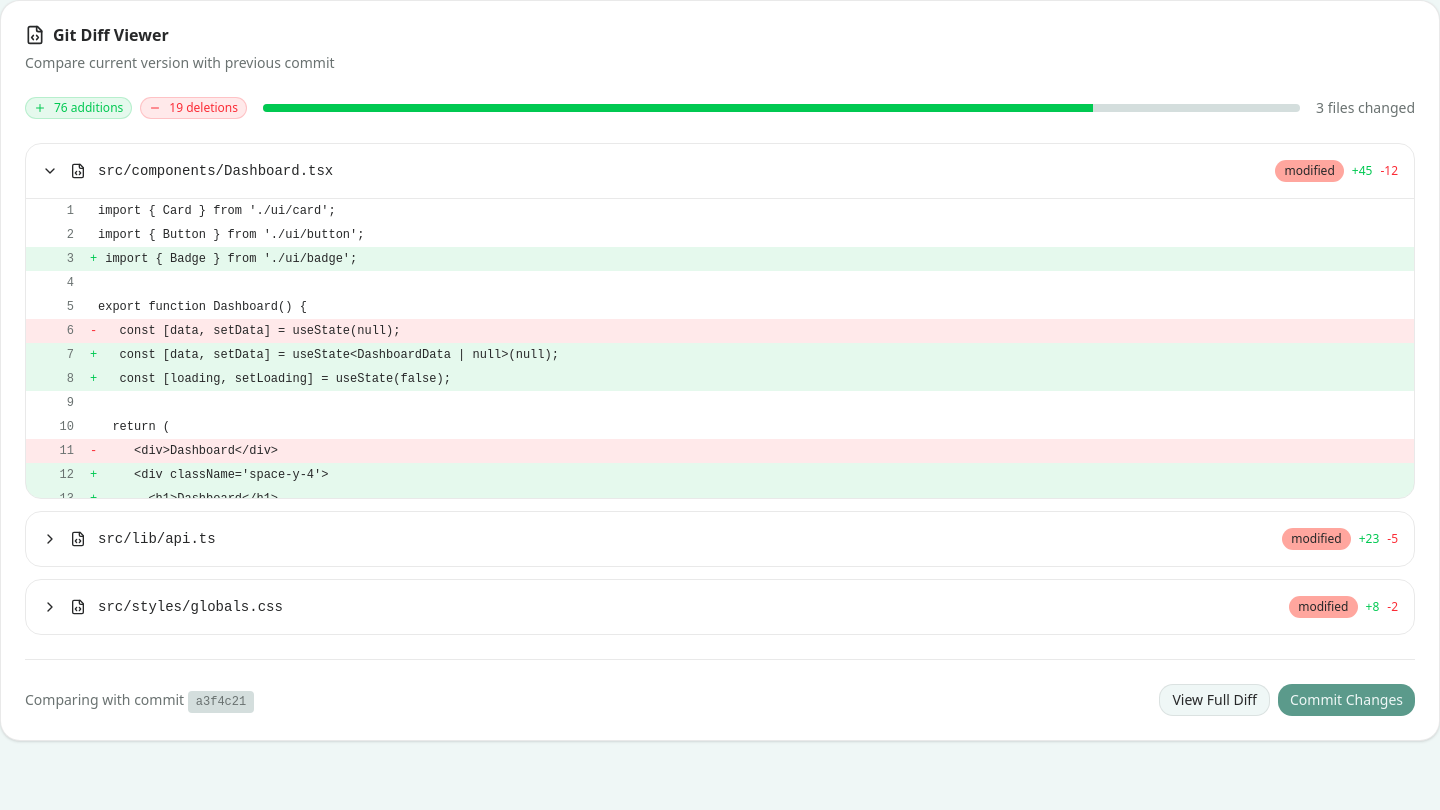
Test: GitDiffViewer Component › should toggle file diff visibility when clicked
Expected: the text "import { Card } from './ui/card';" is shown, [98,204,336,218]
Expected: the text "async function fetchData() {" is not shown
// close Dashboard
What coordinates should you click on to do the following:
click the button "src/components/Dashboard.tsx modified +45 -12"
I would click on:
 (216, 171)
Its box is [26,144,1414,198].
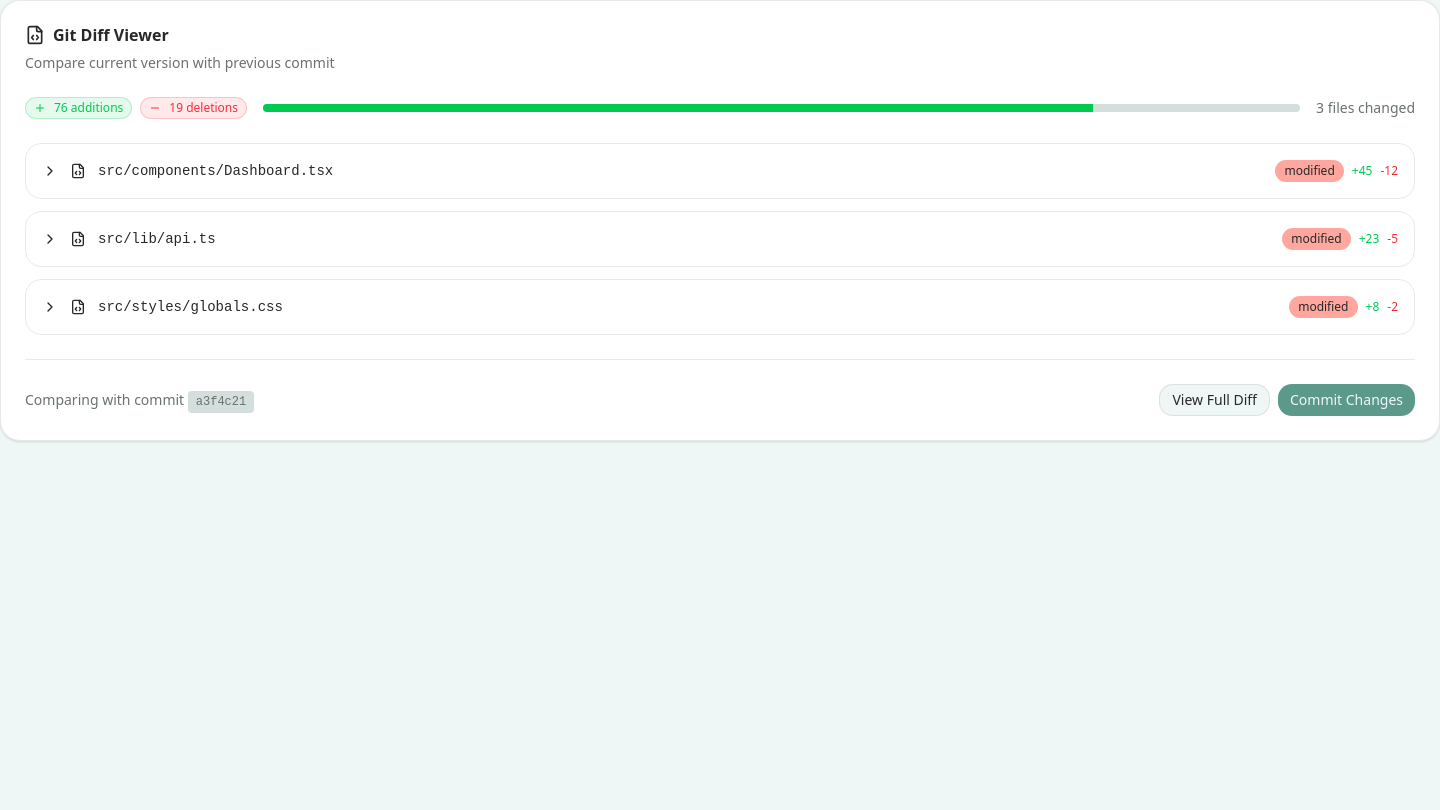
Now the text "import { Card } from './ui/card';" is gone
// open api.ts
What coordinates should you click on to do the following:
click the button "src/lib/api.ts modified +23 -5"
I would click on:
 (157, 239)
Its box is [26,212,1414,266].
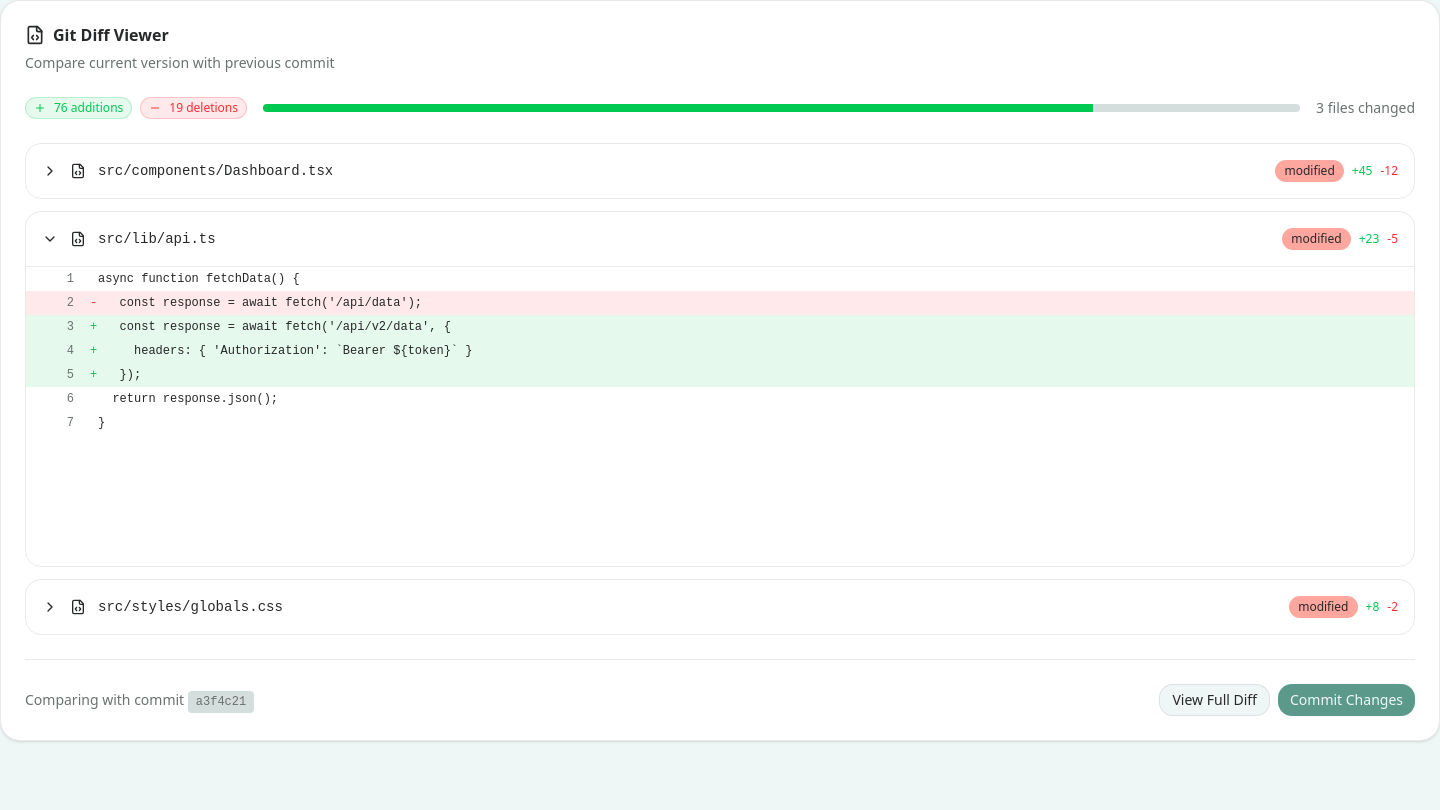
Now the text "async function fetchData() {" is shown, box [98,272,300,286]
